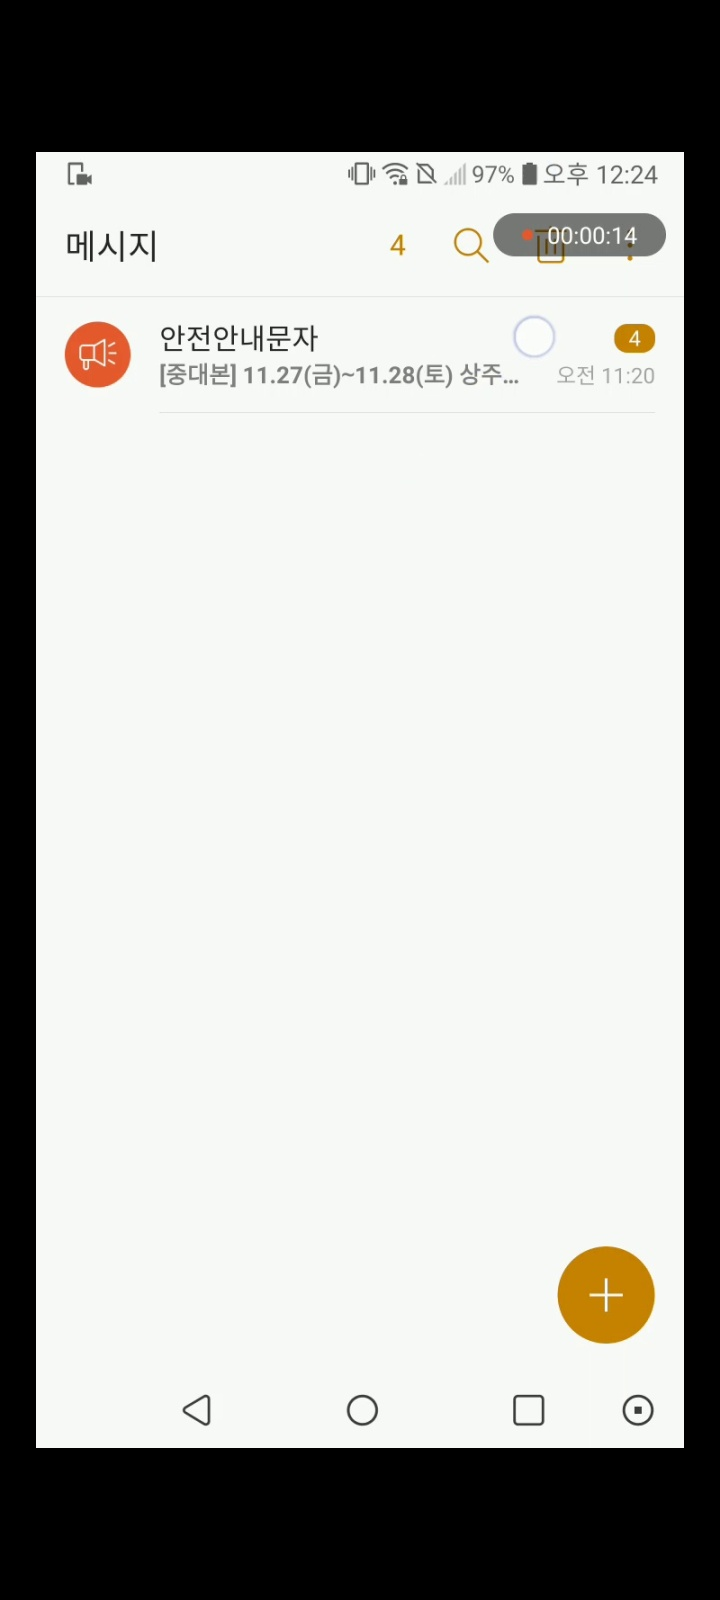Cursor: (513, 314, 558, 359)
